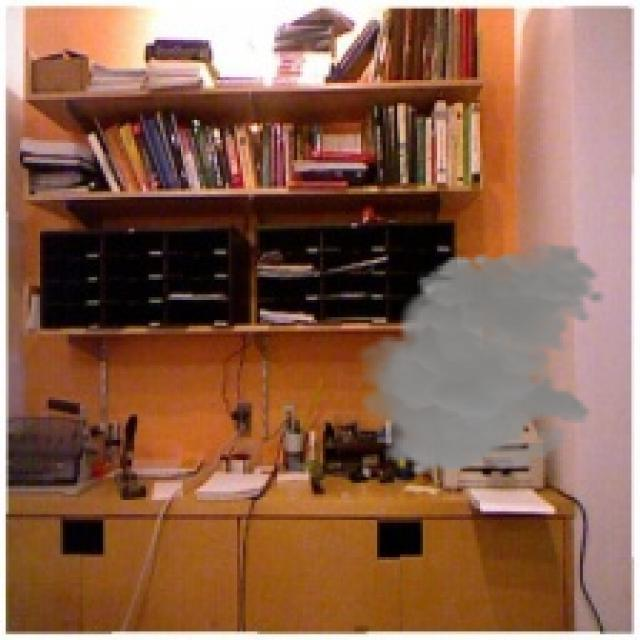Smoke: (348, 242, 606, 478)
